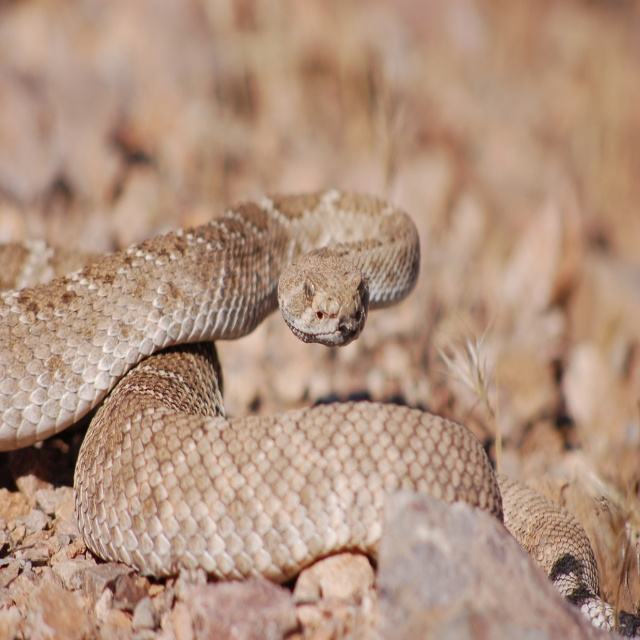Snake: (0, 188, 615, 632)
